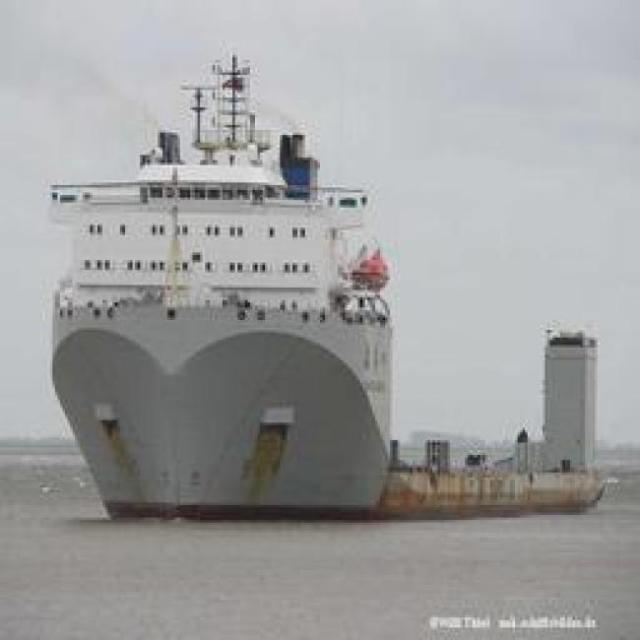boat: (12, 104, 476, 536)
